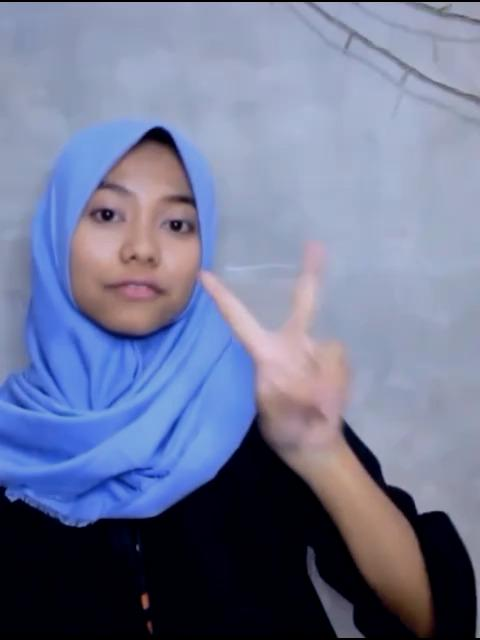V: (194, 234, 356, 463)
